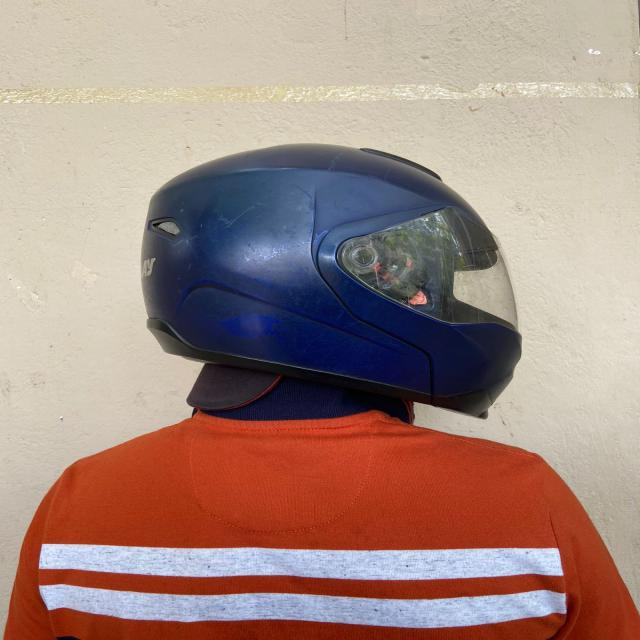With Helmet: (139, 142, 522, 420)
